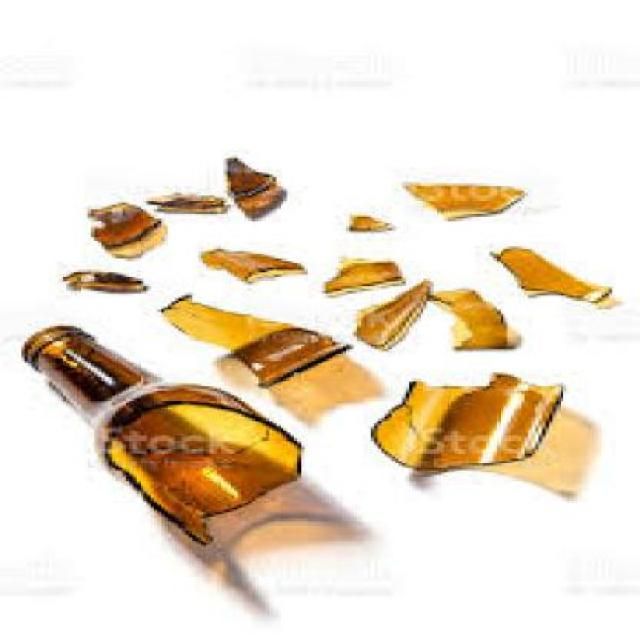kaca: (18, 326, 302, 546), (368, 372, 560, 471), (157, 294, 343, 384), (490, 244, 612, 304), (354, 280, 437, 348), (431, 290, 522, 352), (396, 182, 522, 218), (83, 203, 165, 257), (217, 157, 283, 220), (197, 245, 301, 283), (322, 254, 403, 291), (57, 268, 145, 294), (143, 189, 225, 214), (346, 209, 388, 231)
